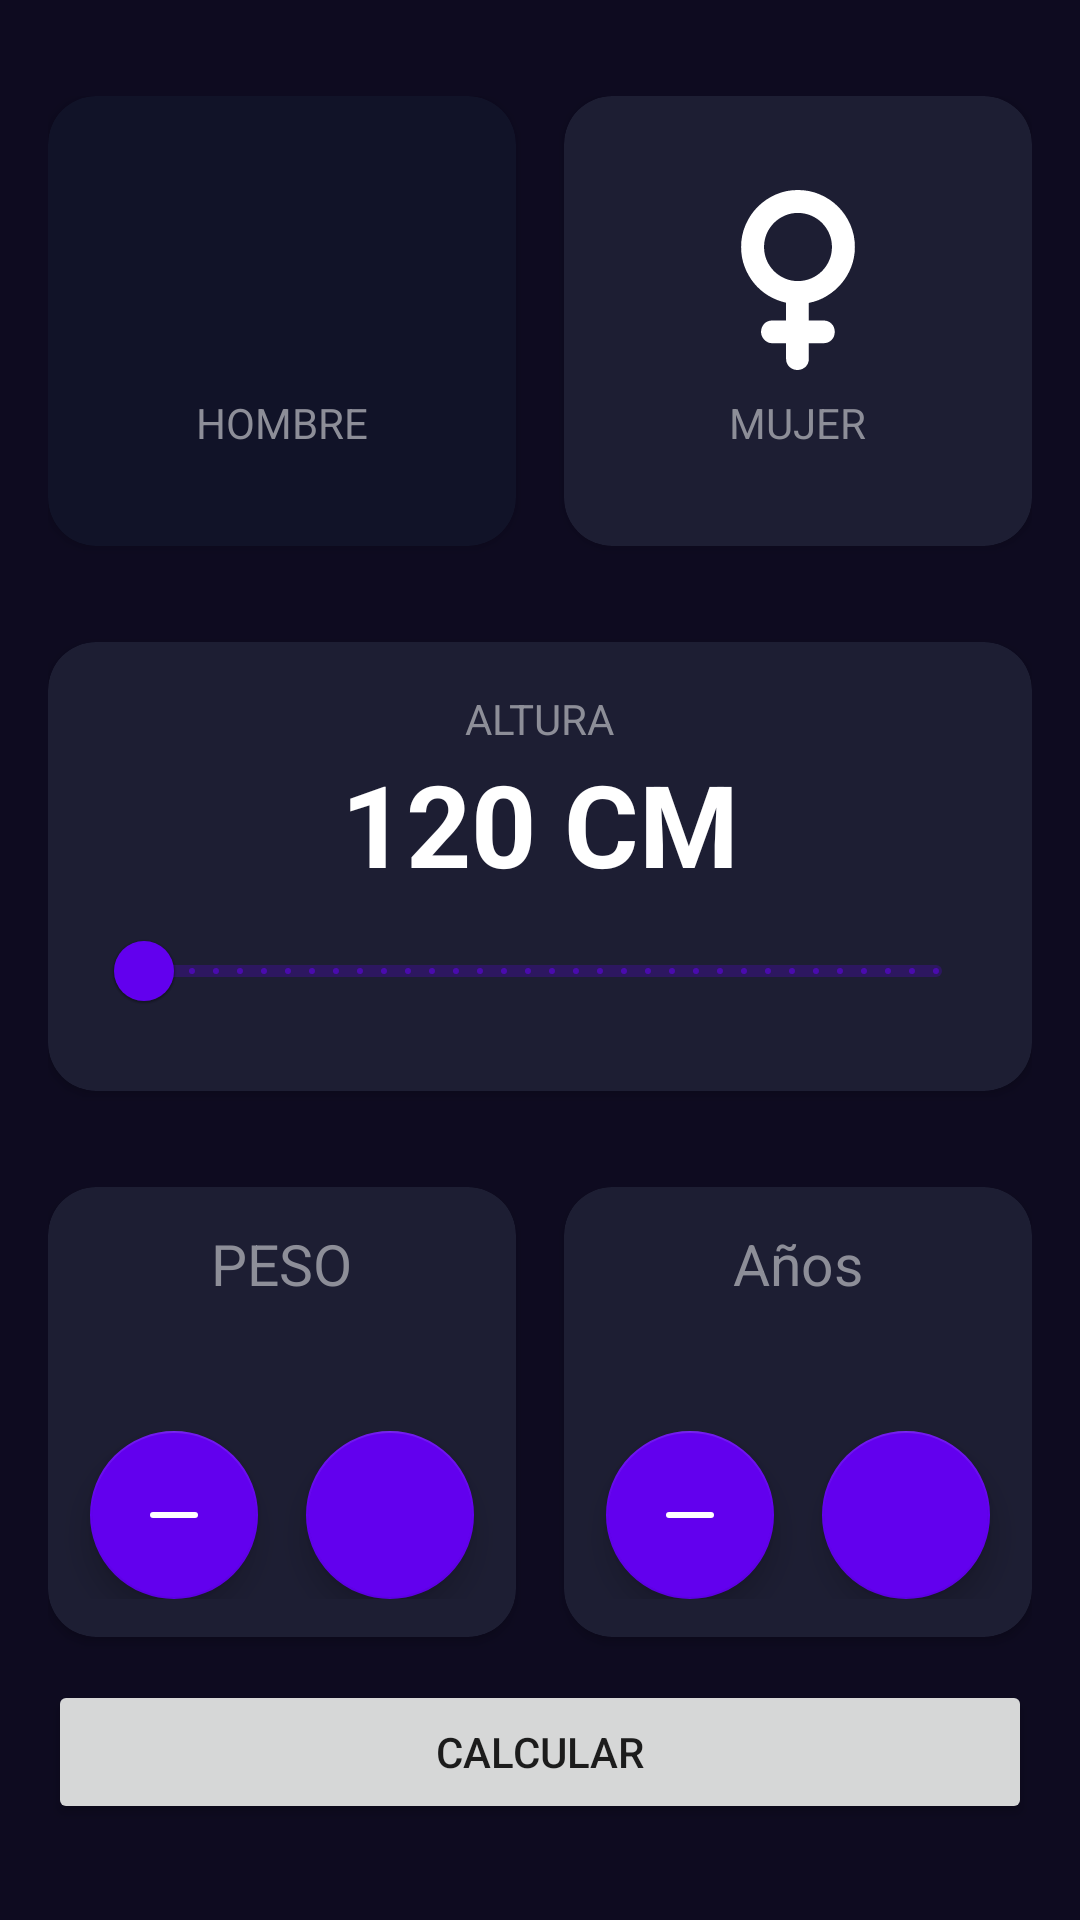

Point at icon controls on the screen. Image size 1080 × 1920, points as (x=x, y=y).
subtract: (x=174, y=1515), (x=690, y=1515)
